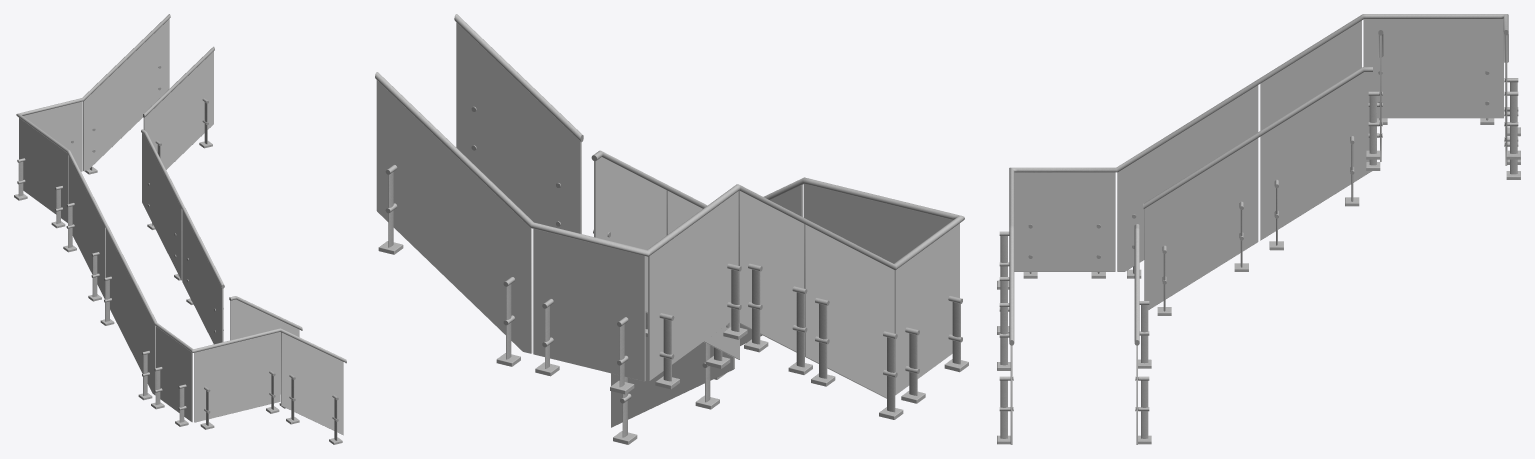
Rendered from U-Shaped_Railing_Lo-Post_Elliptical.gltf.
The picture shows the model from 3 angles, left to right: view 1: azimuth 30°, elevation 25°; view 2: azimuth 150°, elevation 25°; view 3: azimuth 270°, elevation 25°; orthographic projection. The views are drawn at different scales.
Visible parts, largest first — view 1: Casework 1 Casework 1 [8738332], Infill_Glass_Raked & Horizontal Generic [8738822]001, Infill_Glass_Raked & Horizontal Generic [8739593]001, Infill_Glass_Raked & Horizontal Generic [8199751], Casework 1 Casework 1 [8738332]001, Infill_Glass_Raked & Horizontal Generic [8738822], Infill_Glass_Transition Generic [8202170], Infill_Glass_Raked & Horizontal Generic [8199751]001, Infill_Glass_Raked & Horizontal Generic [8739593], Infill_Glass_Raked & Horizontal Generic [8737682]001, Infill_Glass_Raked & Horizontal Generic [8737682], Infill_Glass_Transition Generic [8202170]001 (+5 smaller); view 2: Casework 1 Casework 1 [8738332], Infill_Glass_Raked & Horizontal Generic [8199751], Infill_Glass_Raked & Horizontal Generic [8737682], Casework 1 Casework 1 [8738332]001, Infill_Glass_Raked & Horizontal Generic [8738822], Infill_Glass_Raked & Horizontal Generic [8739593], Infill_Glass_Raked & Horizontal Generic [8737682]001, Infill_Glass_Raked & Horizontal Generic [8738822]001, Infill_Glass_Transition Generic [8202170], Infill_Glass_Transition Generic [8202170]001, Object, Infill_Glass_Raked & Horizontal Generic [8199751]001 (+9 smaller); view 3: Infill_Glass_Raked & Horizontal Generic [8738822], Infill_Glass_Raked & Horizontal Generic [8199751]001, Infill_Glass_Transition Generic [8202170], Infill_Glass_Raked & Horizontal Generic [8737682]001, Casework 1 Casework 1 [8738332]001, Infill_Glass_Raked & Horizontal Generic [8739593], Generic Models 1 Generic Models 1 [8568048], Generic Models 10 Generic Models 1 [8735975], Object, Generic Models 1 Generic Models 1 [8568048]001, Object006, Object013 (+1 smaller).
Boxes of the visible parts, bbox=[...] form: Casework 1 Casework 1 [8738332]: bbox=[83, 19, 169, 170]; Infill_Glass_Raked & Horizontal Generic [8738822]001: bbox=[194, 332, 280, 422]; Infill_Glass_Raked & Horizontal Generic [8739593]001: bbox=[281, 332, 343, 435]; Infill_Glass_Raked & Horizontal Generic [8199751]: bbox=[143, 51, 213, 169]; Casework 1 Casework 1 [8738332]001: bbox=[105, 229, 155, 395]; Infill_Glass_Raked & Horizontal Generic [8738822]: bbox=[19, 118, 68, 222]; Infill_Glass_Transition Generic [8202170]: bbox=[142, 133, 182, 280]; Infill_Glass_Raked & Horizontal Generic [8199751]001: bbox=[182, 210, 223, 344]; Infill_Glass_Raked & Horizontal Generic [8739593]: bbox=[69, 156, 105, 298]; Infill_Glass_Raked & Horizontal Generic [8737682]001: bbox=[156, 326, 192, 422]; Infill_Glass_Raked & Horizontal Generic [8737682]: bbox=[23, 101, 82, 171]; Infill_Glass_Transition Generic [8202170]001: bbox=[230, 299, 299, 393]; Casework 1 Casework 1 [8738332]: bbox=[376, 80, 532, 353]; Infill_Glass_Raked & Horizontal Generic [8199751]: bbox=[456, 22, 581, 233]; Infill_Glass_Raked & Horizontal Generic [8737682]: bbox=[533, 229, 645, 381]; Casework 1 Casework 1 [8738332]001: bbox=[804, 224, 894, 398]; Infill_Glass_Raked & Horizontal Generic [8738822]: bbox=[648, 191, 738, 380]; Infill_Glass_Raked & Horizontal Generic [8739593]: bbox=[738, 190, 804, 352]; Infill_Glass_Raked & Horizontal Generic [8737682]001: bbox=[894, 223, 959, 395]; Infill_Glass_Raked & Horizontal Generic [8738822]001: bbox=[803, 184, 952, 263]; Infill_Glass_Transition Generic [8202170]: bbox=[594, 157, 666, 313]; Infill_Glass_Transition Generic [8202170]001: bbox=[611, 336, 734, 427]; Object: bbox=[375, 72, 737, 256]; Infill_Glass_Raked & Horizontal Generic [8199751]001: bbox=[666, 190, 739, 359]; Infill_Glass_Raked & Horizontal Generic [8738822]: bbox=[1363, 19, 1503, 118]; Infill_Glass_Raked & Horizontal Generic [8199751]001: bbox=[1144, 138, 1258, 309]; Infill_Glass_Transition Generic [8202170]: bbox=[1260, 72, 1372, 240]; Infill_Glass_Raked & Horizontal Generic [8737682]001: bbox=[1014, 172, 1115, 271]; Casework 1 Casework 1 [8738332]001: bbox=[1117, 85, 1258, 271]; Infill_Glass_Raked & Horizontal Generic [8739593]: bbox=[1260, 20, 1361, 130]; Generic Models 1 Generic Models 1 [8568048]: bbox=[1143, 67, 1372, 208]; Generic Models 10 Generic Models 1 [8735975]: bbox=[1164, 14, 1368, 141]; Object: bbox=[1368, 14, 1508, 62]; Generic Models 1 Generic Models 1 [8568048]001: bbox=[1134, 224, 1139, 345]; Object006: bbox=[1009, 225, 1014, 345]; Object013: bbox=[1052, 138, 1165, 172].
Size of the model in its own units: 2 by 3.49 by 3.96.
